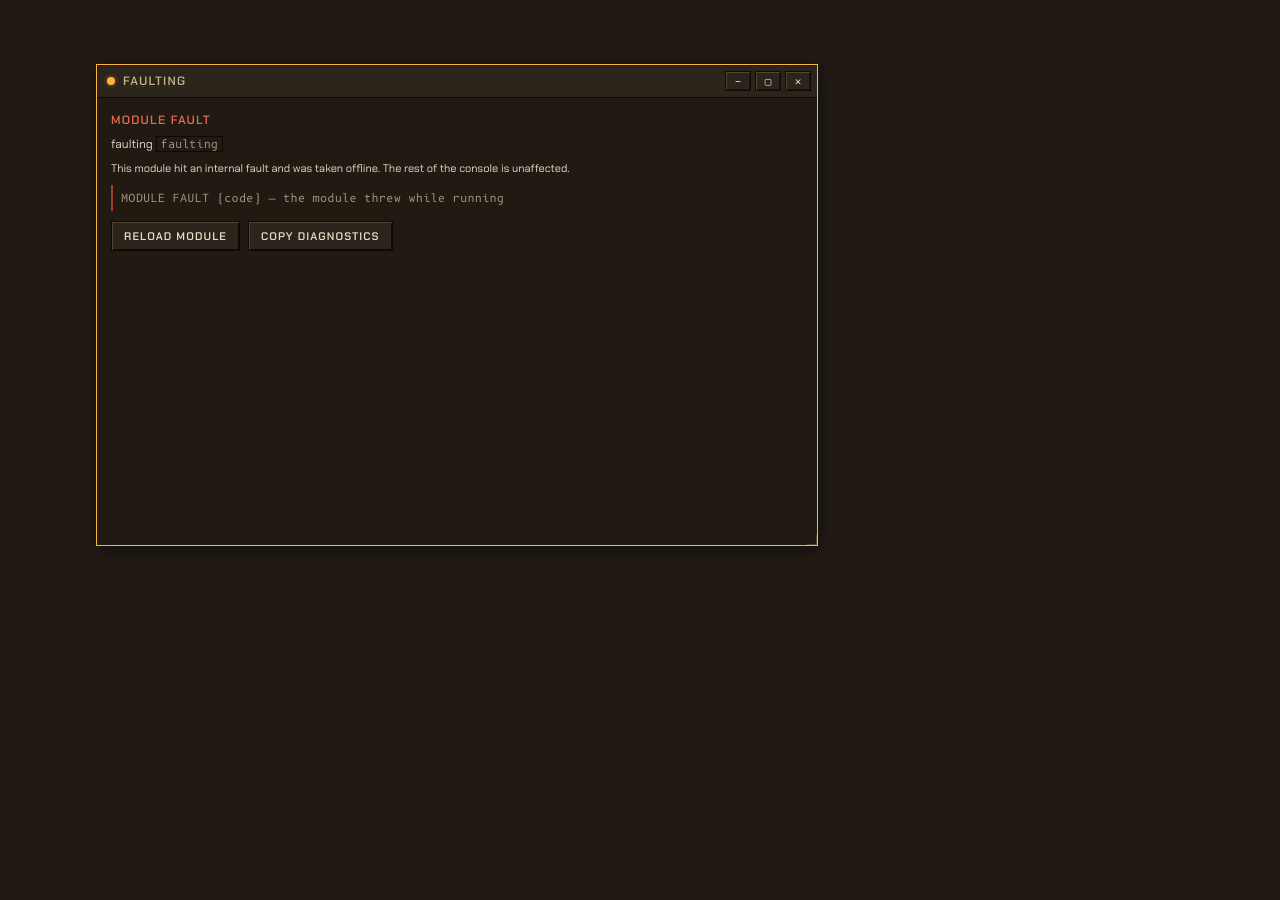
Test: AppBoundary · a thrown app error isolates to its window › Copy diagnostics reveals the report when no clipboard path exists
Check: the message is shown, box [97, 98, 817, 545]
Click the button "Copy diagnostics" at (320, 236), box [248, 220, 393, 250]
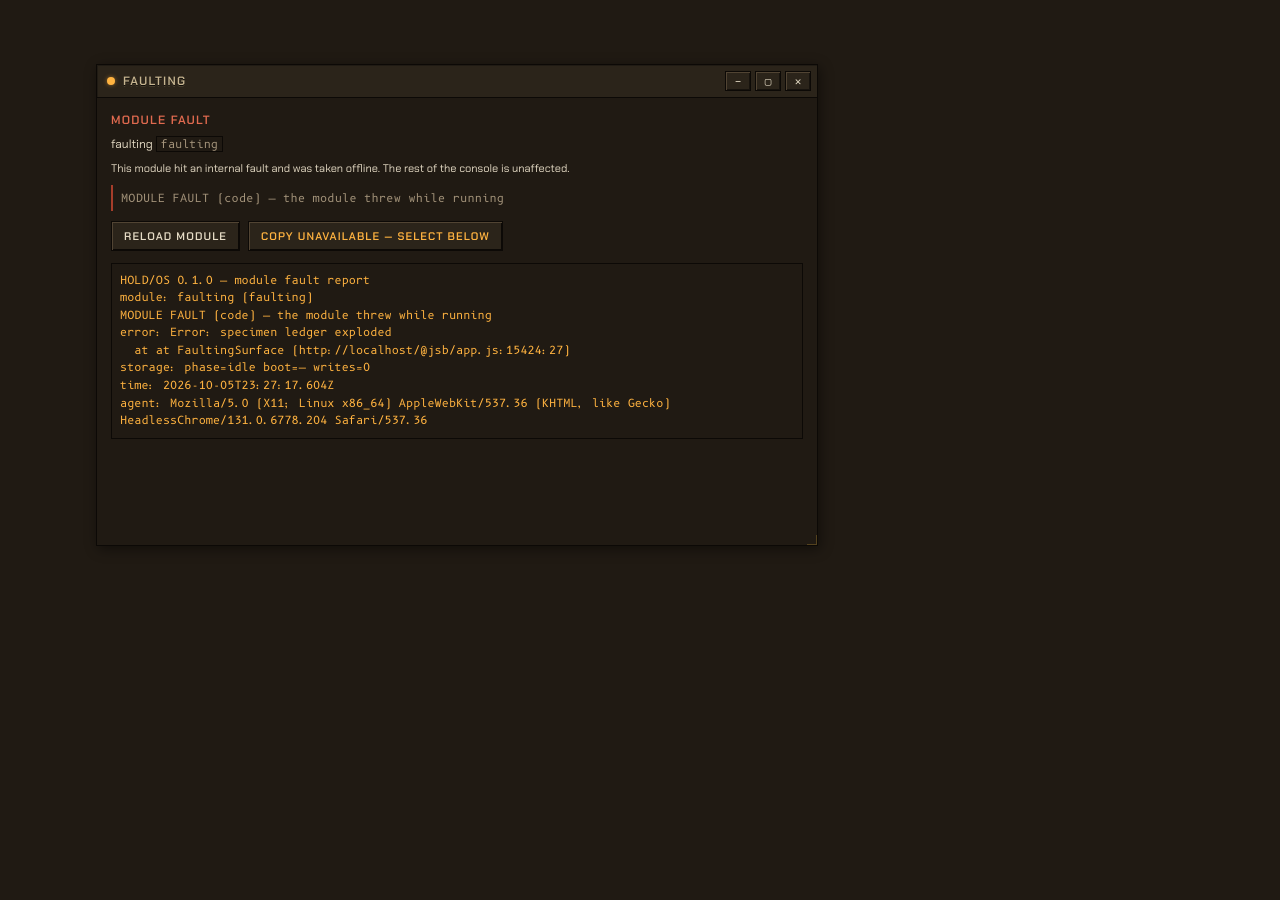
Check: the button "Copy unavailable — select below" is shown, box [248, 220, 503, 250]
Check: the text "module: faulting (faulting)" is shown, box [120, 272, 678, 427]
Check: the text "MODULE FAULT (code)" is shown, box [120, 272, 678, 427]
